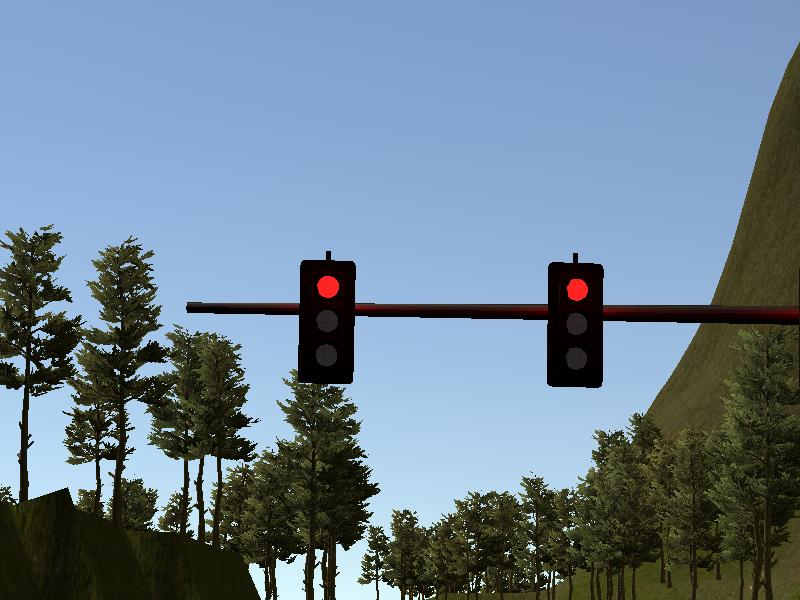Red: (300, 260, 354, 383), (549, 264, 601, 387)
